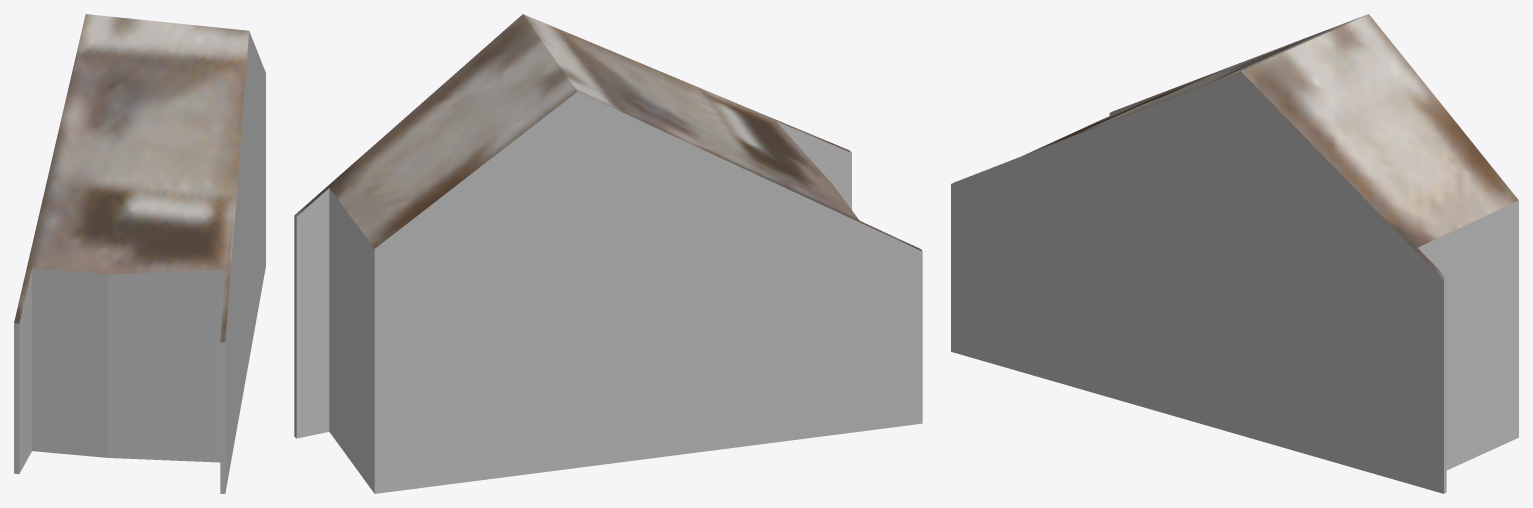
Rendered from DEBW_0010007TvlQ.gltf.
3 views of the same model, side by side, from view 1: azimuth 30°, elevation 25°; view 2: azimuth 150°, elevation 25°; view 3: azimuth 270°, elevation 25° (orthographic). The views are drawn at different scales.
Visible parts, largest first — view 1: Z_UP; view 2: Z_UP; view 3: Z_UP.
Part boxes in pixels (<box>): Z_UP: <box>14,14,265,493</box>; Z_UP: <box>294,14,922,493</box>; Z_UP: <box>951,14,1518,493</box>.
Bounding box in the file's own units: 14.34 × 11.26 × 15.9.
2 materials, 1 textured.
